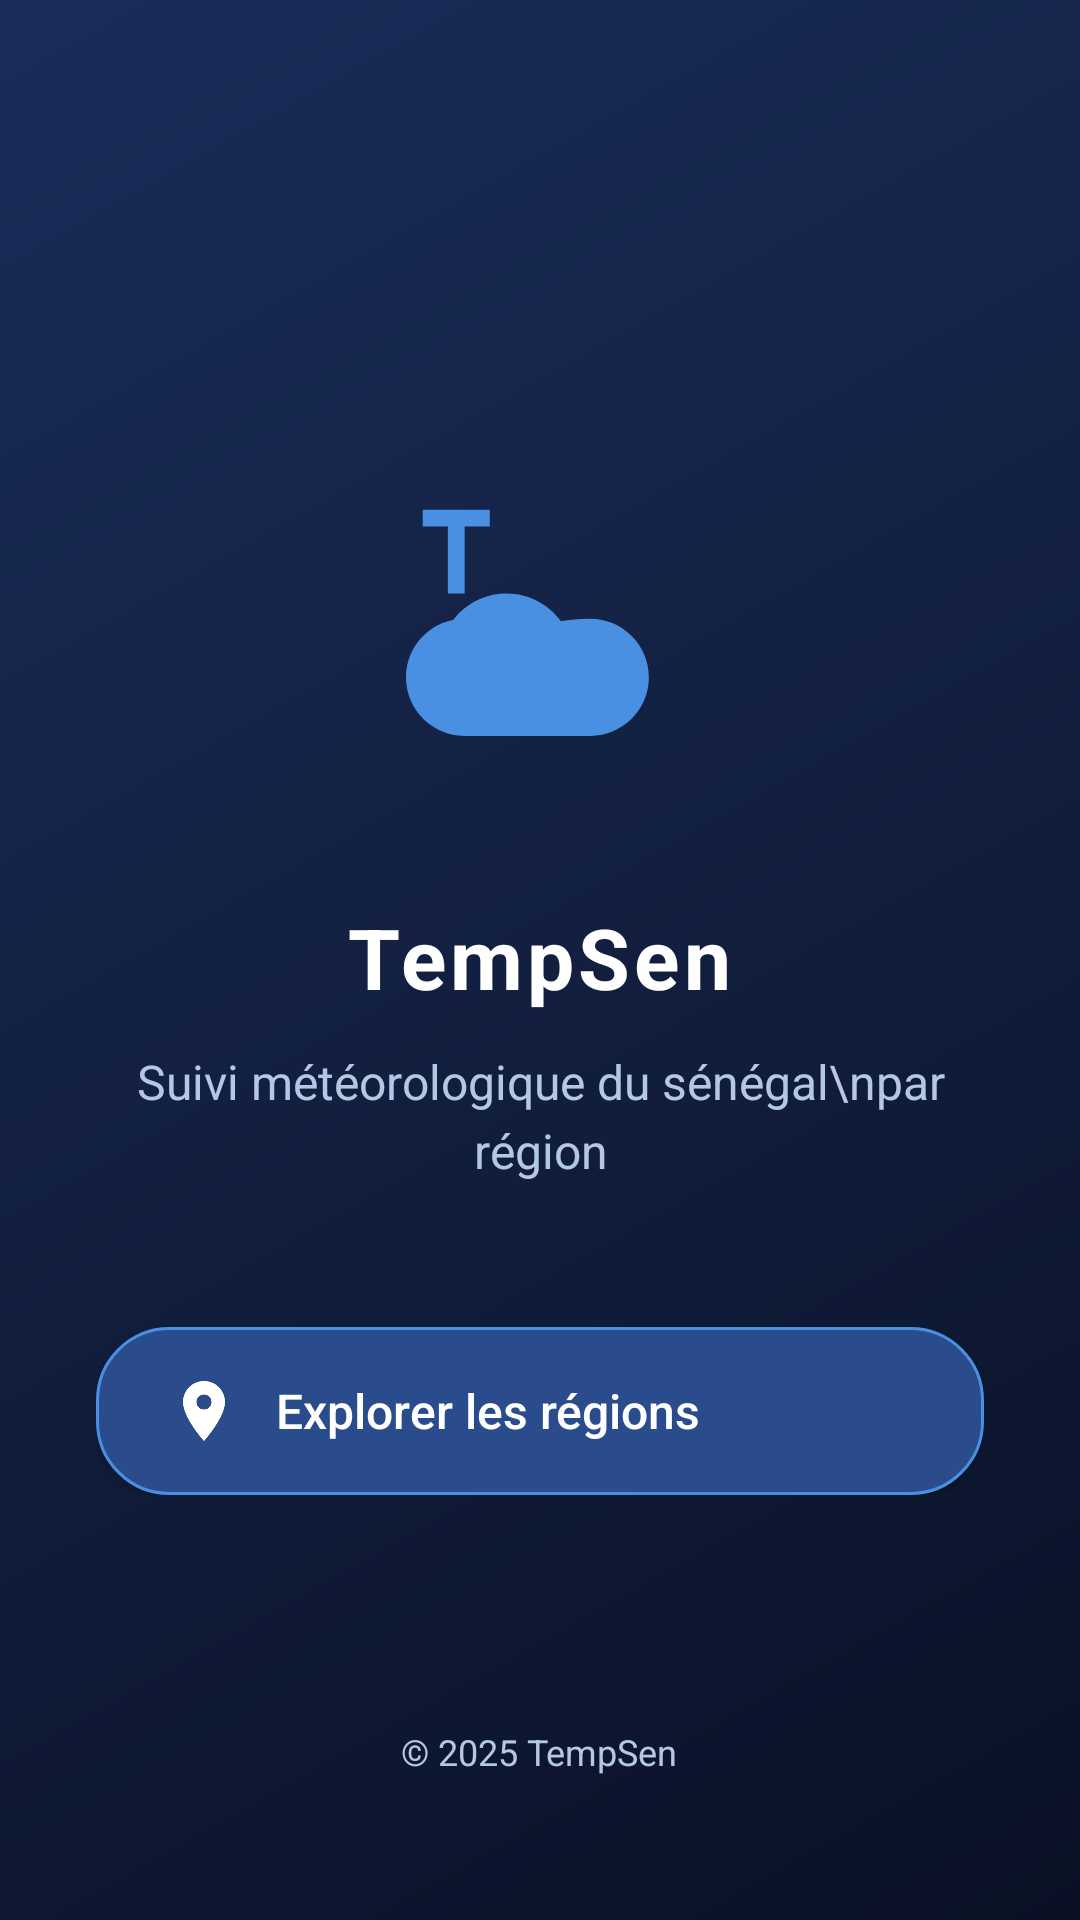

Screen size 1080px x 1920px. Icon name, then its box in pixels as (x1, y1, x2, y2):
weather: (406, 509, 649, 736)
